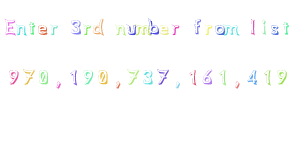,: (230, 77, 246, 95), (110, 77, 126, 94), (52, 77, 67, 95), (170, 76, 185, 94)
0: (95, 64, 111, 89), (36, 64, 52, 88)
1: (66, 64, 82, 88), (215, 65, 231, 89), (259, 64, 274, 89), (185, 65, 201, 87)
3: (141, 65, 155, 89), (68, 16, 82, 37)
4: (243, 64, 261, 88)
6: (200, 64, 215, 87)
7: (21, 64, 38, 90), (155, 64, 172, 90), (124, 64, 141, 88)
9: (274, 65, 292, 91), (4, 64, 21, 88), (80, 64, 96, 87)
E: (2, 13, 16, 40)
b: (147, 12, 160, 39)
d: (91, 14, 108, 39)
e: (158, 19, 170, 40), (36, 22, 48, 39)
f: (188, 13, 203, 36)
i: (257, 16, 269, 38)
l: (245, 13, 259, 38)
m: (221, 20, 241, 40), (134, 19, 151, 39)
n: (16, 22, 28, 39), (114, 22, 125, 39)
o: (213, 20, 226, 38)
r: (47, 19, 60, 38), (169, 20, 182, 38), (203, 20, 213, 38), (82, 21, 93, 37)
s: (269, 22, 280, 38)
t: (281, 18, 293, 36), (27, 17, 37, 38)
u: (125, 20, 139, 39)
